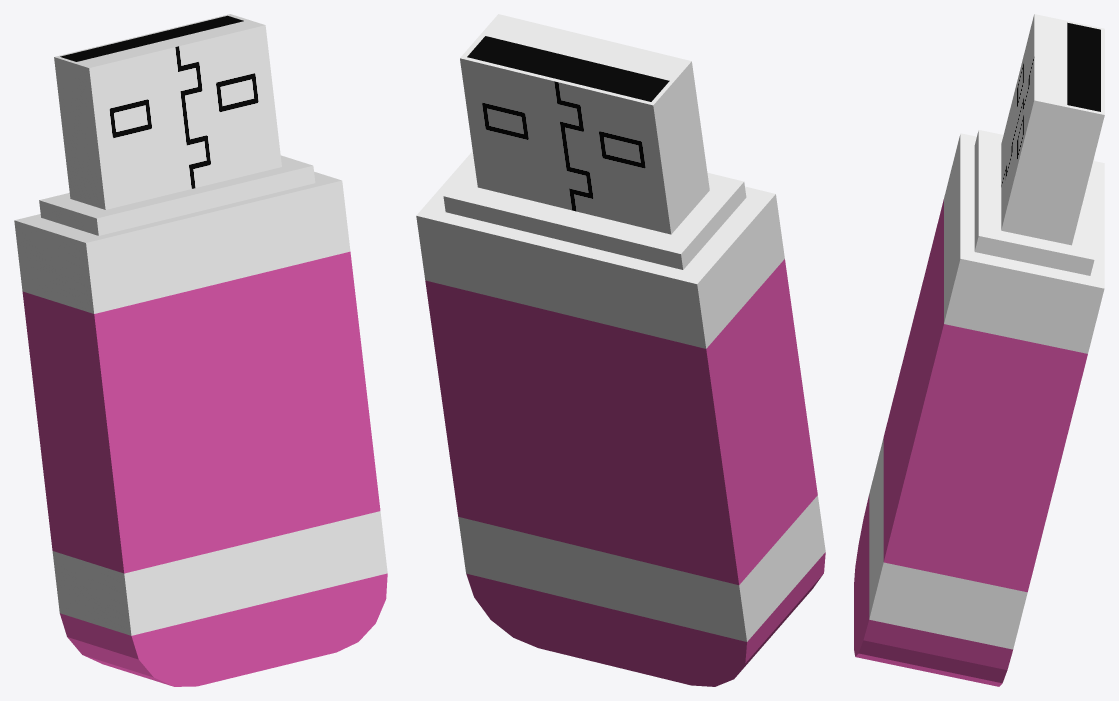
Rendered from usb_anim.glb.
The picture shows the model from 3 angles, left to right: view 1: azimuth 30°, elevation 25°; view 2: azimuth 150°, elevation 25°; view 3: azimuth 270°, elevation 25°; orthographic projection. The views are drawn at different scales.
Parts seen in each view (by area): view 1: Obj_usb_1; view 2: Obj_usb_1; view 3: Obj_usb_1.
Part boxes in pixels (x1,y1,x2,y2): Obj_usb_1: [14, 14, 387, 686]; Obj_usb_1: [416, 14, 825, 686]; Obj_usb_1: [854, 14, 1104, 686].
Size of the model in its own units: 1.21 by 2.65 by 1.02.
Materials: 2 (1 with a texture image).
